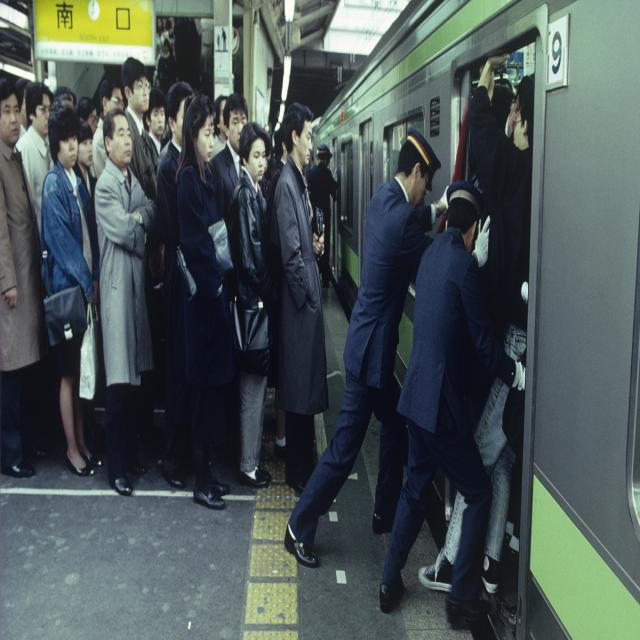body: (282, 124, 452, 571), (378, 178, 527, 628), (418, 52, 535, 595), (88, 100, 161, 502), (34, 92, 102, 482), (176, 93, 233, 511), (272, 100, 330, 493), (0, 74, 49, 479), (227, 120, 273, 491), (155, 79, 195, 491), (449, 55, 541, 198), (143, 8, 198, 185), (15, 80, 56, 245), (208, 90, 250, 247), (120, 57, 159, 209), (310, 144, 337, 289), (504, 393, 527, 560), (89, 74, 125, 180), (255, 94, 289, 191), (55, 68, 101, 128), (8, 62, 42, 140), (72, 120, 99, 216), (208, 85, 240, 153), (307, 144, 320, 218)
